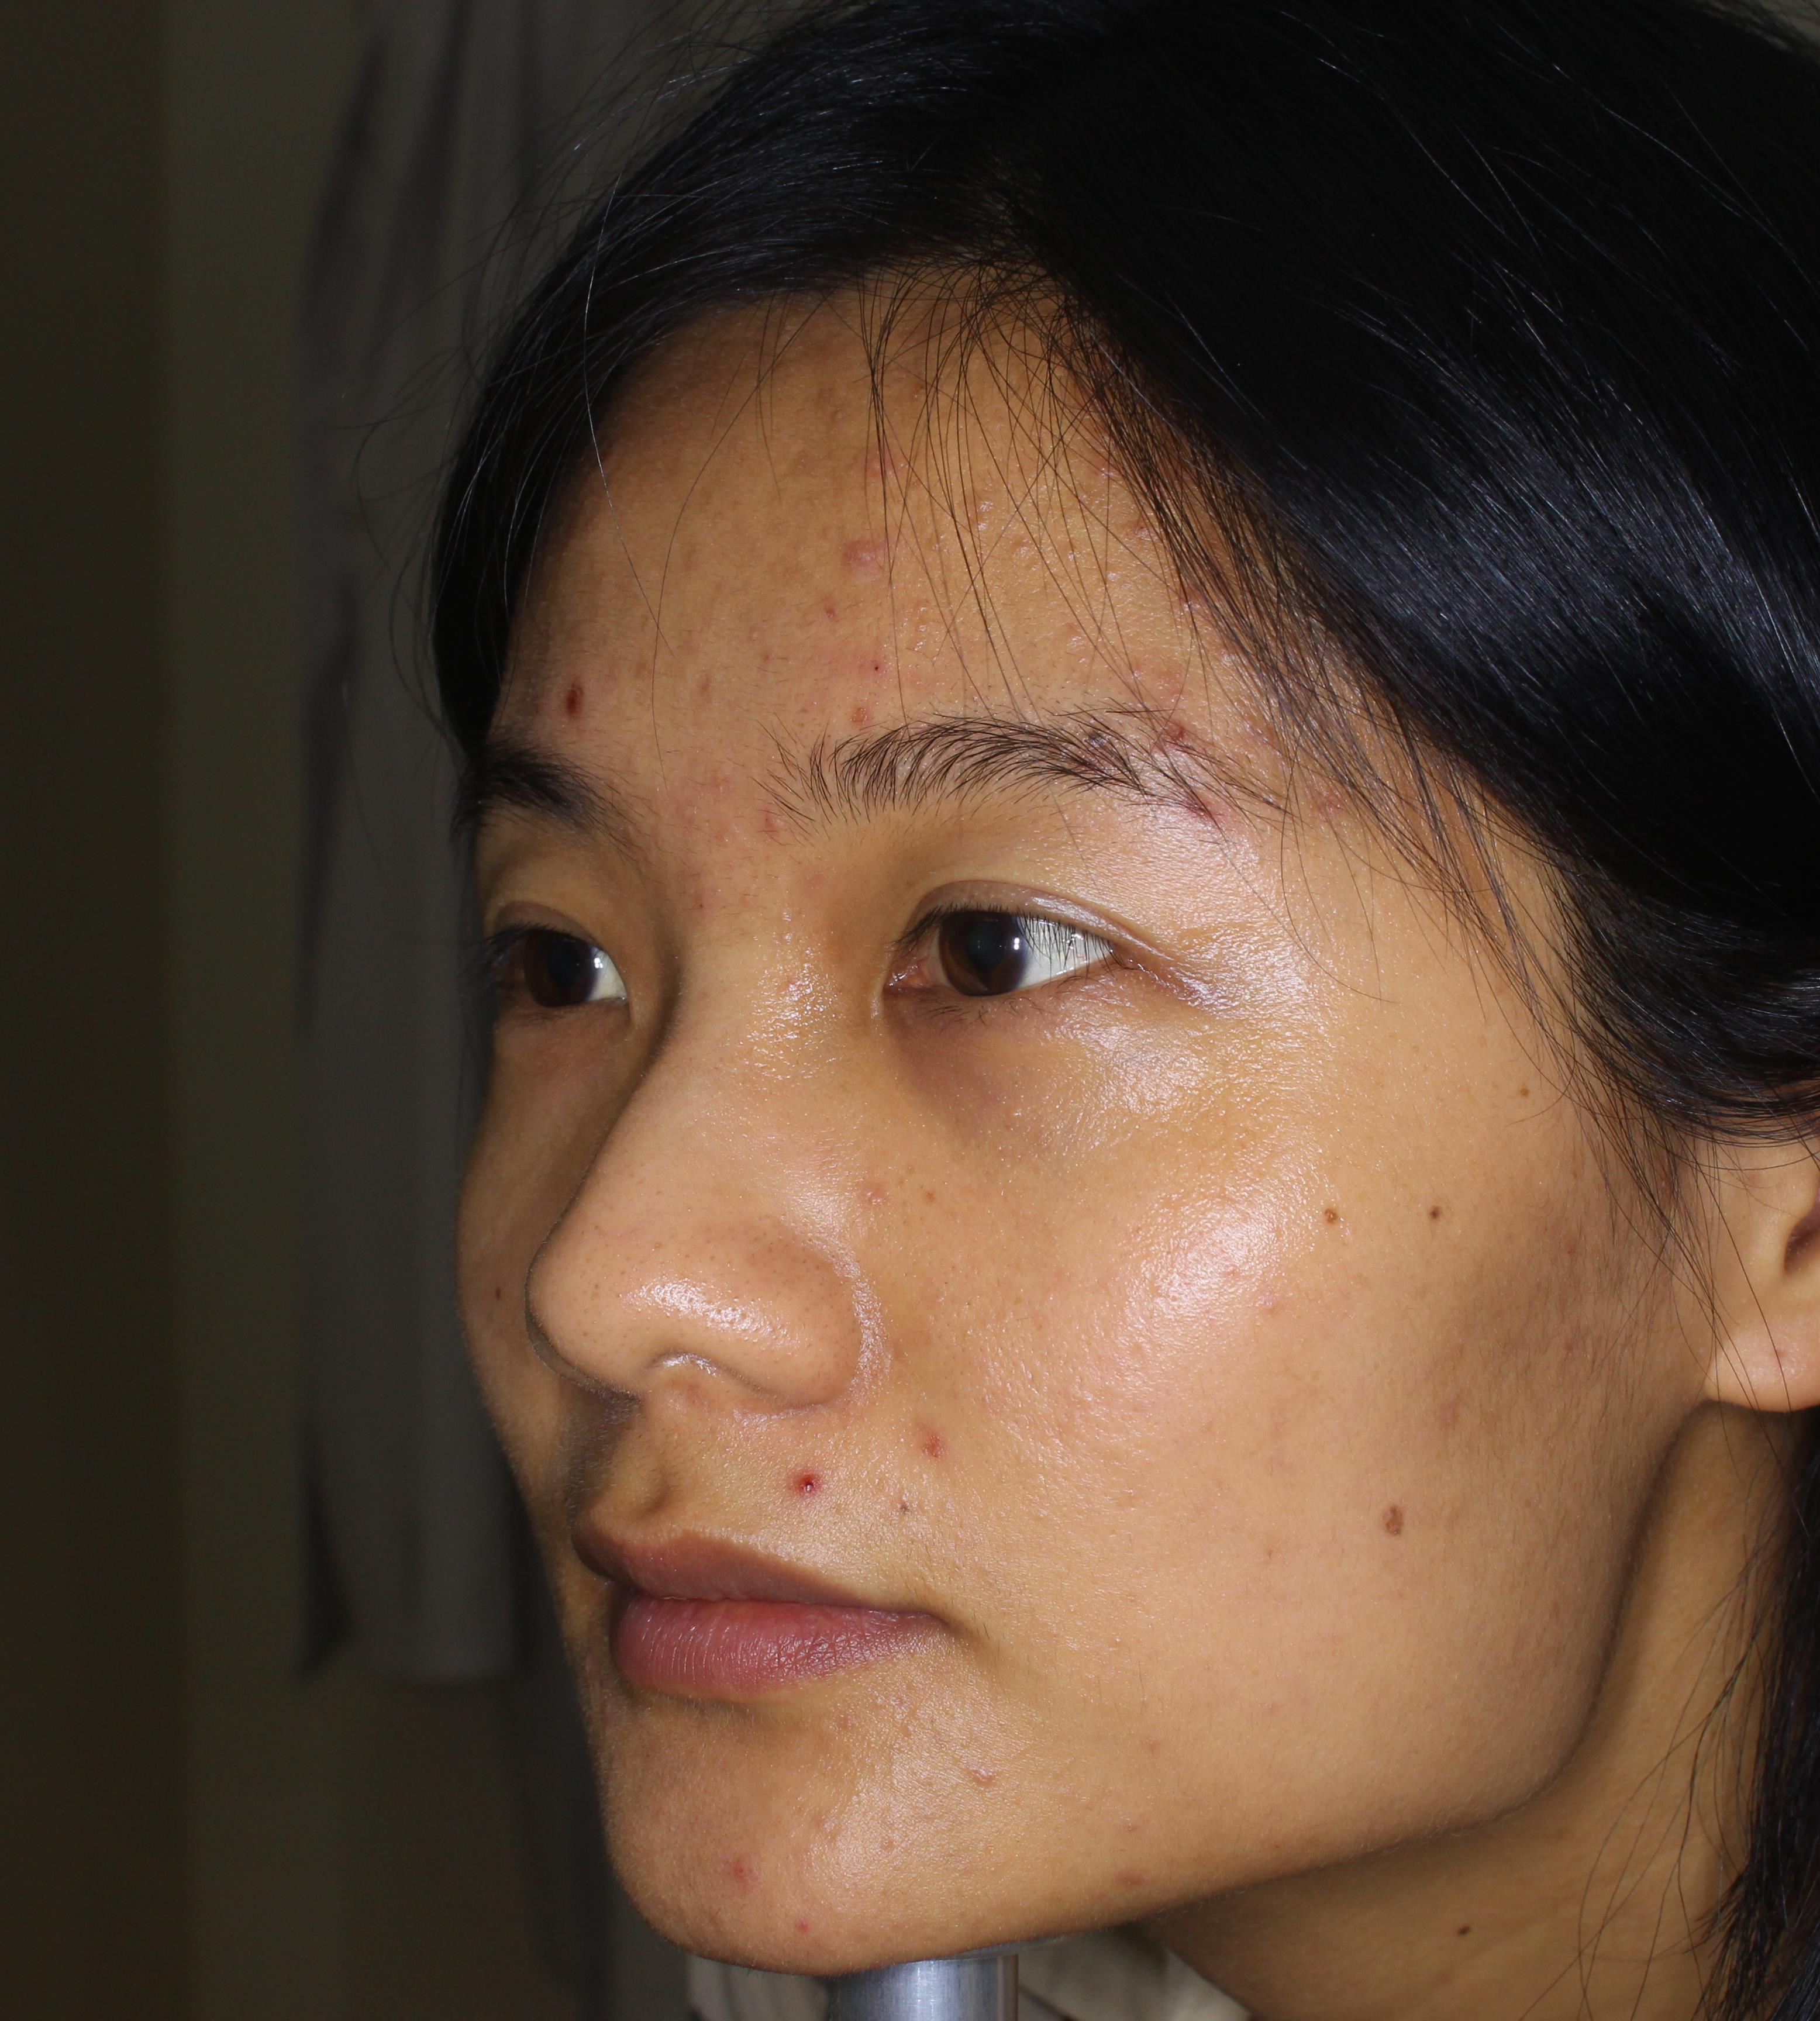fore: (803, 506, 884, 581), (1126, 685, 1189, 757), (808, 662, 884, 720), (1288, 746, 1340, 827), (1158, 766, 1210, 827), (727, 1831, 780, 1889), (771, 1459, 826, 1500)
